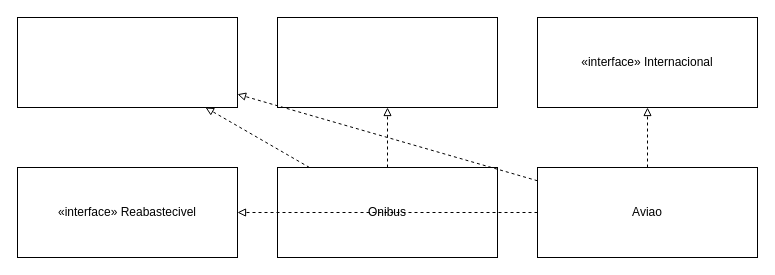
This 775x275 diagram has some shape labels left out. The centre of each missing label's shape, as x and y in pixels:
«interface» RastreavelGPS: point (387, 62)
«interface» Transportavel: point (127, 62)
